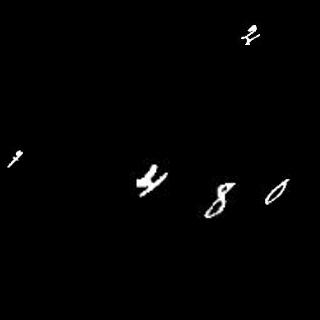eight: (201, 180, 237, 222)
four: (132, 163, 172, 200)
seven: (5, 146, 24, 170)
two: (240, 23, 263, 41)
zero: (262, 178, 292, 207)
